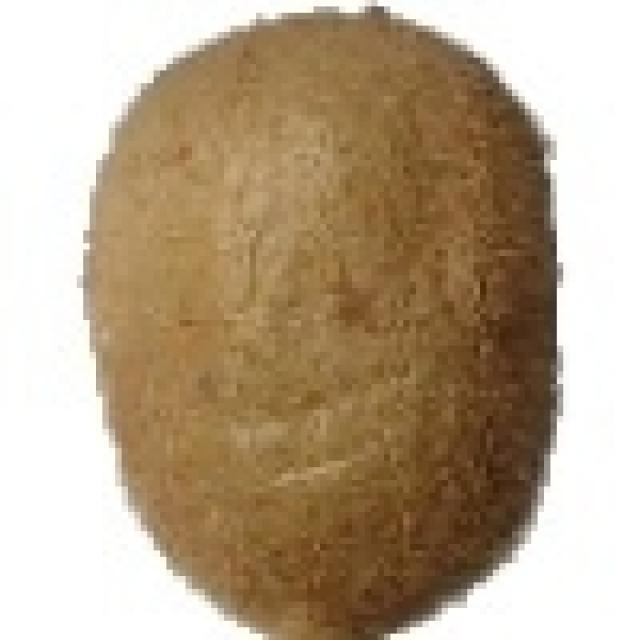kiwi: (83, 6, 544, 627)
